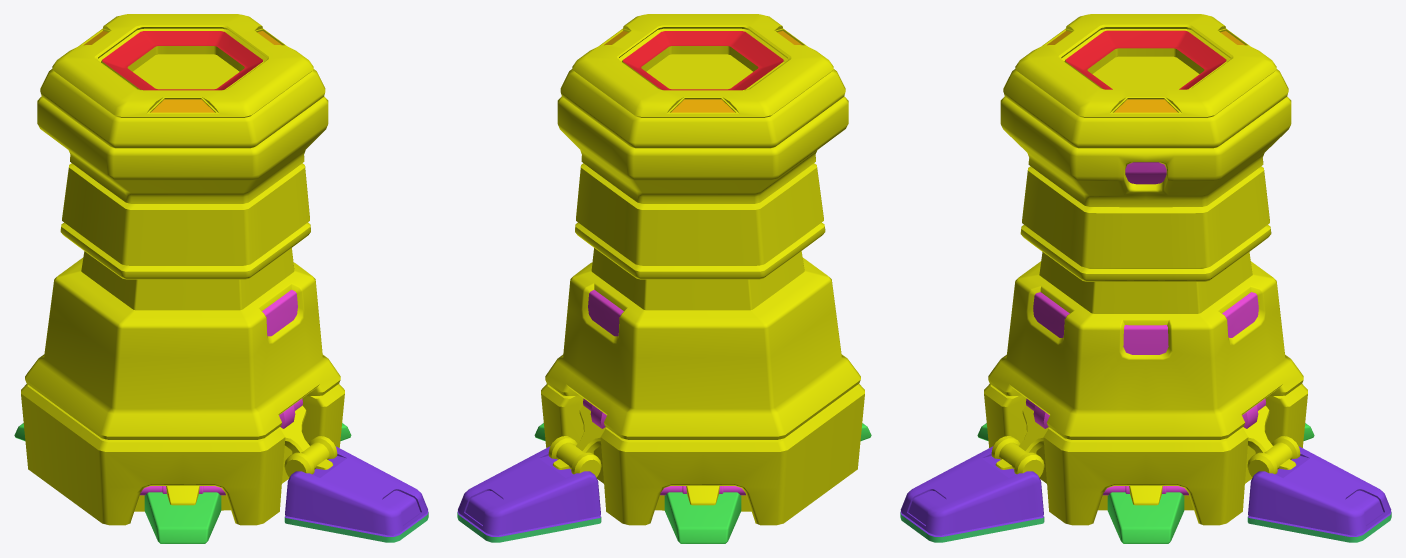
Rendered from M_Podium.fbx.
3 views of the same model, side by side, from view 1: azimuth 30°, elevation 25°; view 2: azimuth 150°, elevation 25°; view 3: azimuth 270°, elevation 25° (orthographic).
Parts seen in each view (by area): view 1: Cylinder; view 2: Cylinder; view 3: Cylinder.
Part boxes in pixels (x1,y1,x2,y2): Cylinder: (14, 14, 428, 543); Cylinder: (457, 14, 871, 543); Cylinder: (900, 14, 1391, 543).
Bounding box in the file's own units: 68.26 × 96.83 × 103.
